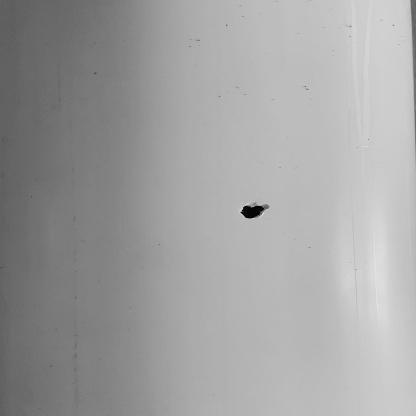kongdong: (222, 193, 307, 232)
